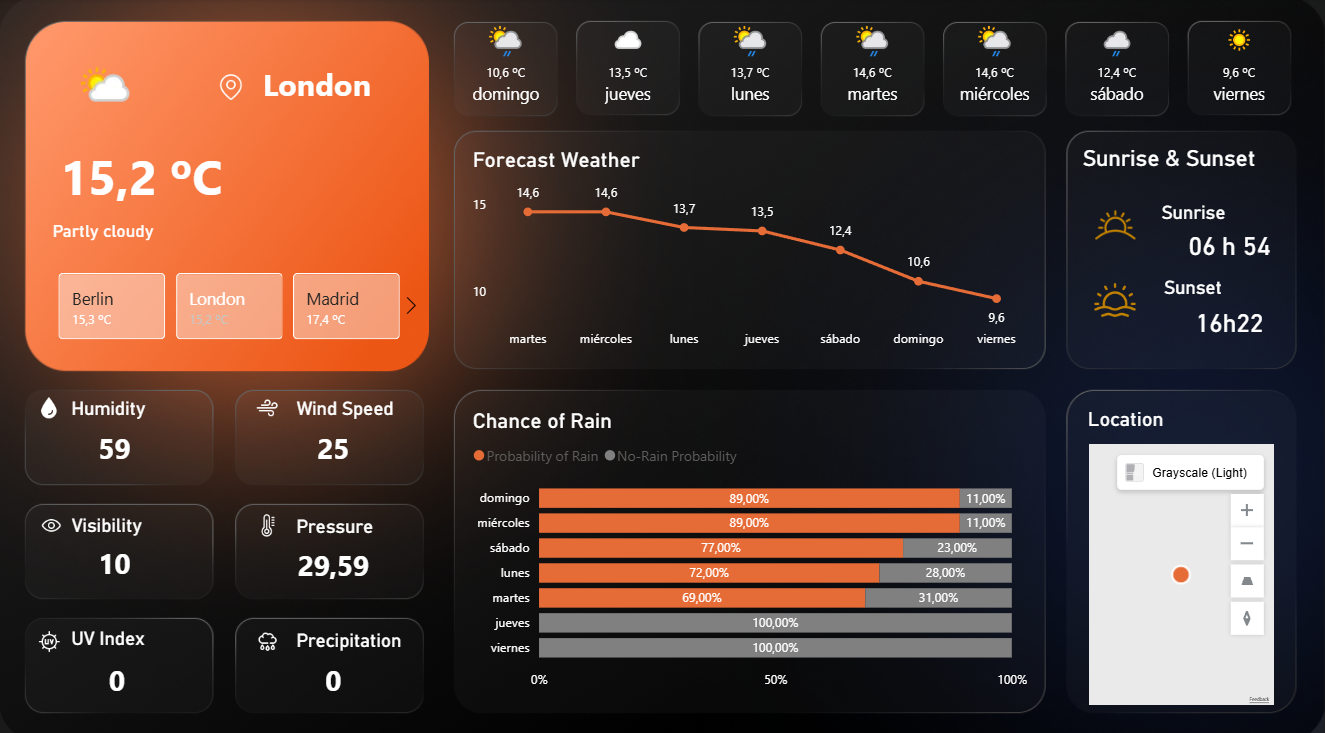

The dashboard page shown, as its layout file describes it:
{"tool":"powerbi","page":{"name":"Página 1","canvas":[1280,720],"ordinal":0},"visuals":[{"type":"advancedSlicerVisual","fields":{"Values":["Locations.location.name"],"Label":["_Measures.Curr_Temp_C"]},"box":[32.6,260.6,380,74.8],"z":0},{"type":"shape","box":[51.9,139.9,171.3,61.5],"z":1000},{"type":"shape","box":[51.9,214.7,171.3,26.5],"z":2000},{"type":"shape","box":[254.6,62.4,143.6,44.6],"z":3000},{"type":"image","box":[202.7,68.5,42.2,35],"z":4000},{"type":"cardVisual","fields":{"Data":["Min(Current.current.condition.icon)"]},"box":[32.6,27.7,123.1,123.1],"z":5000},{"type":"image","box":[27.4,494,45.3,31.6],"z":6000},{"type":"shape","title":"Humidity","box":[70,385.6,111.1,23.3],"z":7000},{"type":"image","box":[223.7,380.1,71.4,31.6],"z":8000},{"type":"image","box":[231.9,605.1,54.9,31.6],"z":9000},{"type":"image","box":[19.2,605.1,59,31.6],"z":10000},{"type":"image","box":[240.1,494,38.4,31.6],"z":11000},{"type":"image","box":[32.9,380.1,31.6,31.6],"z":12000},{"type":"shape","title":"Visibility","box":[70,498.1,111.1,23.3],"z":13000},{"type":"shape","title":"UV Index","box":[70,607.9,111.1,23.3],"z":14000},{"type":"shape","title":"Precipitation","box":[286.8,609.3,111.1,23.3],"z":15000},{"type":"shape","title":"Pressure","box":[286.8,499.5,111.1,23.3],"z":16000},{"type":"shape","title":"Wind Speed","box":[286.8,385.6,111.1,23.3],"z":17000},{"type":"card","fields":{"Values":["Sum(Current.current.humidity)"]},"box":[48.7,411.5,126.8,48.7],"z":18000},{"type":"card","fields":{"Values":["Sum(Current.current.wind_kph)"]},"box":[259.6,411.5,126.8,48.7],"z":19000},{"type":"card","fields":{"Values":["Sum(Current.current.vis_km)"]},"box":[48.7,522.1,126.8,48.7],"z":20000},{"type":"card","fields":{"Values":["Sum(Current.current.uv)"]},"box":[50.1,635.7,126.8,48.7],"z":21000},{"type":"card","fields":{"Values":["Sum(Current.current.precip_in)"]},"box":[259.6,635.7,126.8,48.7],"z":22000},{"type":"card","fields":{"Values":["Sum(Current.current.pressure_in)"]},"box":[259.6,525.1,126.8,48.7],"z":23000},{"type":"advancedSlicerVisual","fields":{"Values":["Forecast_Days.Day_Name"]},"box":[424.8,14.7,843.7,107.7],"z":24000},{"type":"lineChart","title":"Forecast Weather","fields":{"Category":["Forecast_Days.Day_Name"],"Y":["Sum(Forecast_Days.forecast.forecastday.day.avgtemp_c)"]},"box":[452.8,143.1,545.7,203.5],"z":25000},{"type":"shape","title":"Sunrise & Sunset","box":[1045.6,142.7,192.1,31.6],"z":26000},{"type":"shape","title":"Sunrise","box":[1122.5,196.2,111.1,23.3],"z":27000},{"type":"shape","title":"Sunset","box":[1123.8,269,111.1,23.3],"z":28000},{"type":"card","fields":{"Values":["Min(Forecast_Days.forecast.forecastday.astro.sunrise)"]},"box":[1122,217.2,131.5,43.4],"z":29000},{"type":"card","fields":{"Values":["Min(Forecast_Days.forecast.forecastday.astro.sunset)"]},"box":[1122,292,131.5,42.2],"z":30000},{"type":"image","box":[1026.7,188.2,101.3,61.5],"z":31000},{"type":"image","box":[1036.3,266.6,82,49.5],"z":32000},{"type":"hundredPercentStackedBarChart","title":"Chance of Rain","fields":{"Y":["Sum(Forecast_Days.forecast.forecastday.day.daily_chance_of_rain)","Current.Left_Value_Rain"],"Category":["Forecast_Days.Day_Name"]},"box":[452.4,395.7,545.3,279.9],"z":33000},{"type":"azureMap","fields":{"Category":["Locations.location.name"]},"box":[1047.2,425.9,188.2,261.8],"z":34000},{"type":"shape","title":"Location","box":[1050.8,395.7,153.2,22.9],"z":35000}]}

Visuals, with their boxes in screenshot pixels (x1, y1, x2, y2), scaled from the page's 1280x720 canvas onto the 1325x733 screenshot:
advancedSlicerVisual - Locations.location.name x _Measures.Curr_Temp_C: x1=34 y1=265 x2=427 y2=341
shape: x1=54 y1=142 x2=231 y2=205
shape: x1=54 y1=219 x2=231 y2=246
shape: x1=264 y1=64 x2=412 y2=109
image: x1=210 y1=70 x2=254 y2=105
cardVisual - Min(Current.current.condition.icon): x1=34 y1=28 x2=161 y2=154
image: x1=28 y1=503 x2=75 y2=535
"Humidity" shape: x1=72 y1=393 x2=187 y2=416
image: x1=232 y1=387 x2=305 y2=419
image: x1=240 y1=616 x2=297 y2=648
image: x1=20 y1=616 x2=81 y2=648
image: x1=249 y1=503 x2=288 y2=535
image: x1=34 y1=387 x2=67 y2=419
"Visibility" shape: x1=72 y1=507 x2=187 y2=531
"UV Index" shape: x1=72 y1=619 x2=187 y2=643
"Precipitation" shape: x1=297 y1=620 x2=412 y2=644
"Pressure" shape: x1=297 y1=509 x2=412 y2=532
"Wind Speed" shape: x1=297 y1=393 x2=412 y2=416
card - Sum(Current.current.humidity): x1=50 y1=419 x2=182 y2=469
card - Sum(Current.current.wind_kph): x1=269 y1=419 x2=400 y2=469
card - Sum(Current.current.vis_km): x1=50 y1=532 x2=182 y2=581
card - Sum(Current.current.uv): x1=52 y1=647 x2=183 y2=697
card - Sum(Current.current.precip_in): x1=269 y1=647 x2=400 y2=697
card - Sum(Current.current.pressure_in): x1=269 y1=535 x2=400 y2=584
advancedSlicerVisual - Forecast_Days.Day_Name: x1=440 y1=15 x2=1313 y2=125
"Forecast Weather" lineChart: x1=469 y1=146 x2=1034 y2=353
"Sunrise & Sunset" shape: x1=1082 y1=145 x2=1281 y2=177
"Sunrise" shape: x1=1162 y1=200 x2=1277 y2=223
"Sunset" shape: x1=1163 y1=274 x2=1278 y2=298
card - Min(Forecast_Days.forecast.forecastday.astro.sunrise): x1=1161 y1=221 x2=1298 y2=265
card - Min(Forecast_Days.forecast.forecastday.astro.sunset): x1=1161 y1=297 x2=1298 y2=340
image: x1=1063 y1=192 x2=1168 y2=254
image: x1=1073 y1=271 x2=1158 y2=322
"Chance of Rain" hundredPercentStackedBarChart: x1=468 y1=403 x2=1033 y2=688
azureMap - Locations.location.name: x1=1084 y1=434 x2=1279 y2=700
"Location" shape: x1=1088 y1=403 x2=1246 y2=426
